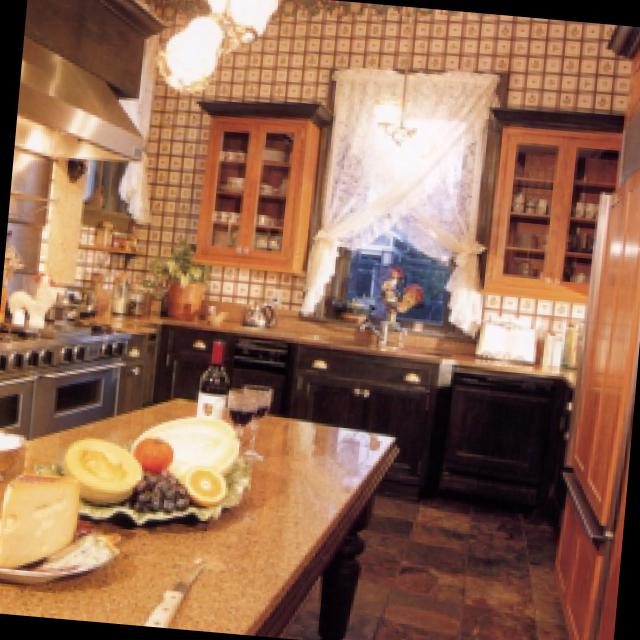2001: (342, 230, 445, 308), (81, 156, 138, 224)
book case: (473, 316, 531, 358)
bottle crop: (190, 329, 228, 414)
bowl -X: (329, 288, 369, 319), (219, 172, 240, 187), (257, 176, 276, 189)
cabinet door: (479, 104, 619, 300), (190, 99, 331, 271)
cabinets: (156, 326, 293, 410)
ceiling lamps: (157, 0, 277, 87)
cheese: (0, 467, 76, 563)
cups: (568, 196, 592, 213), (212, 203, 235, 217), (219, 142, 240, 157)
curtain crop: (303, 62, 495, 336), (111, 32, 154, 220)
dishwasher: (430, 362, 553, 508)
glasses -X: (223, 381, 268, 462)
hood: (14, 0, 166, 159)
jars: (107, 268, 148, 312), (510, 189, 544, 209)
knife holder: (138, 551, 212, 623)
lemon slice: (175, 462, 229, 506)
orange: (126, 428, 171, 471)
oven cloth: (0, 338, 125, 434)
paper: (537, 327, 560, 361)
plant -x: (153, 236, 208, 317)
plate food: (0, 533, 114, 581), (8, 288, 44, 328)
pot hanger: (52, 286, 83, 320)
refrigerator: (552, 161, 640, 640)
sink basin: (304, 331, 443, 353)
sink occluded: (351, 306, 390, 343)
statue: (371, 256, 425, 309)
stove burner: (0, 311, 116, 348)
table -X: (0, 390, 396, 631)
teapot: (237, 300, 271, 325)
